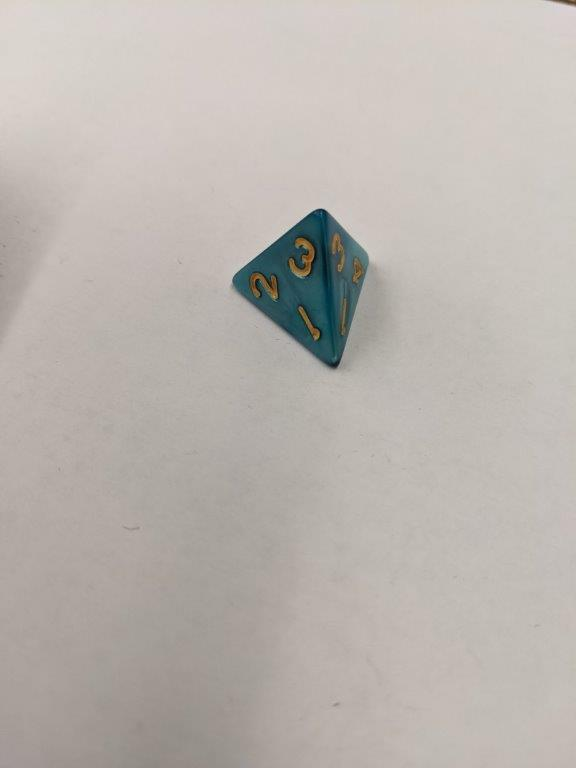d4-3: (231, 205, 373, 373)
